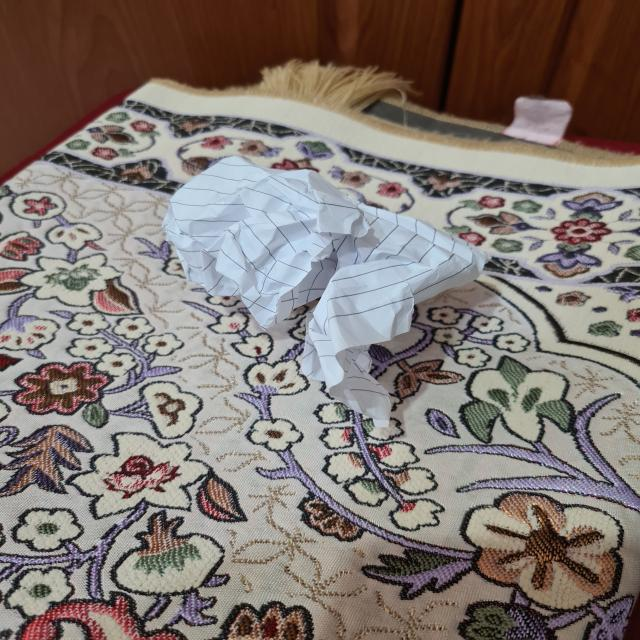Paper: (161, 149, 481, 439)
